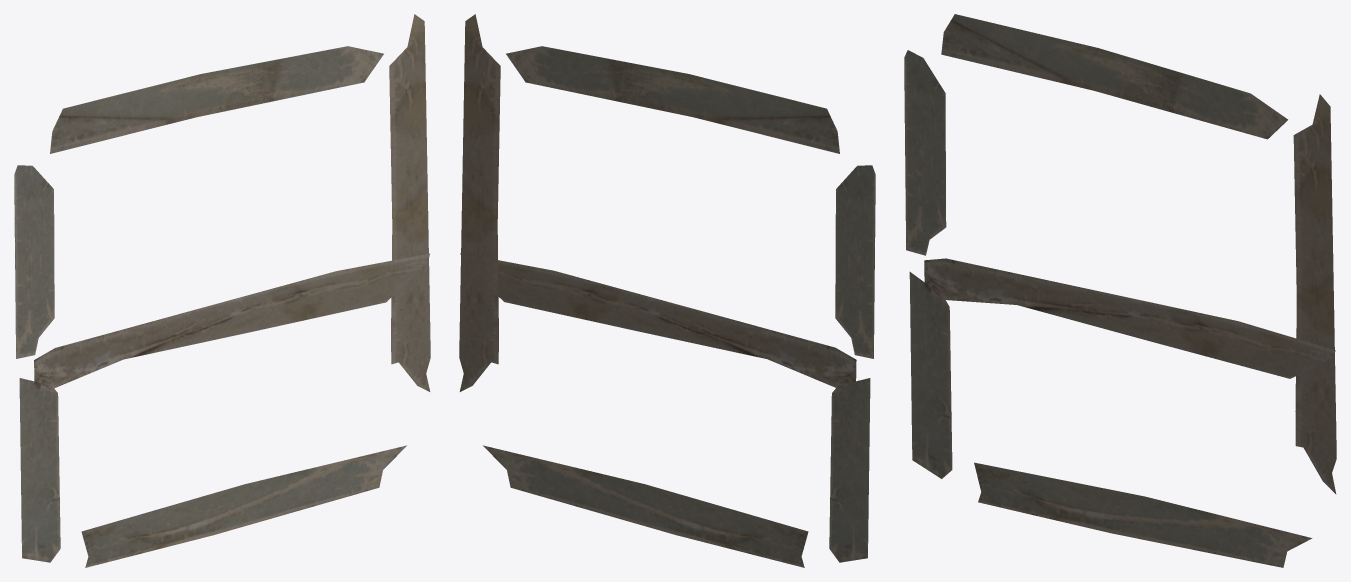
Rendered from SM_Broken_Tape_03.fbx.
The picture shows the model from 3 angles, left to right: view 1: azimuth 30°, elevation 25°; view 2: azimuth 150°, elevation 25°; view 3: azimuth 330°, elevation 25°; orthographic projection. The views are drawn at different scales.
Parts seen in each view (by area): view 1: SM_Broken_Tape_03; view 2: SM_Broken_Tape_03; view 3: SM_Broken_Tape_03.
Part boxes in pixels (x1,y1,x2,y2): SM_Broken_Tape_03: (14,14,430,567); SM_Broken_Tape_03: (459,14,875,567); SM_Broken_Tape_03: (904,14,1336,567).
Bounding box in the file's own units: 88.52 × 96.17 × 0.1.
1 material, 1 textured.
